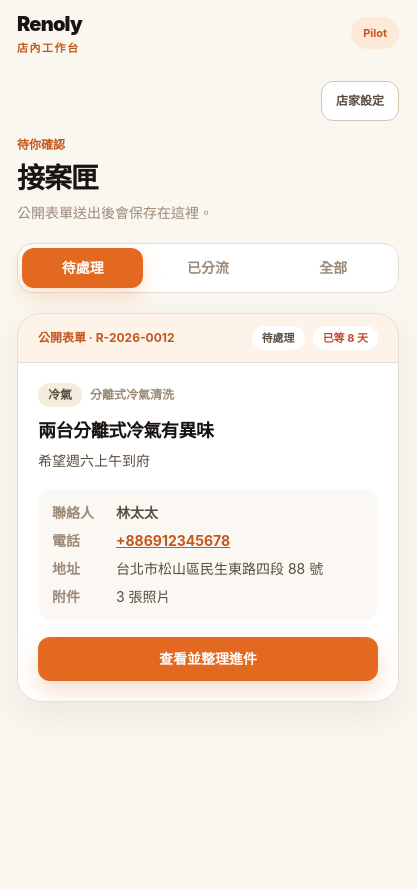
Test: PilotInbox › renders a status pill on triaged cards in the all tab
Expected: the heading "接案匣" is shown, [17,160,98,194]
Click the tab "全部".
click(333, 268)  # box [273,248,394,288]
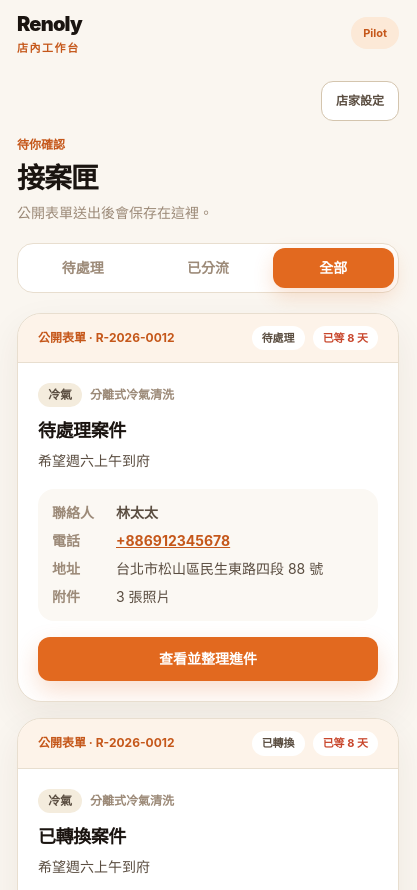
Now the text "已轉換" is shown, box [252,731,305,756]
